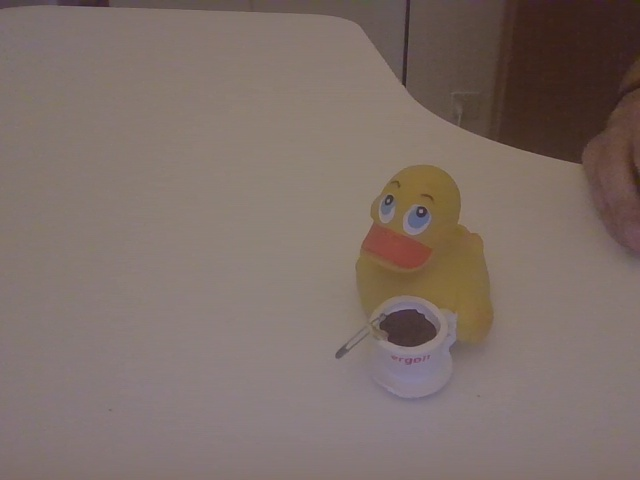duck: (315, 149, 497, 408)
